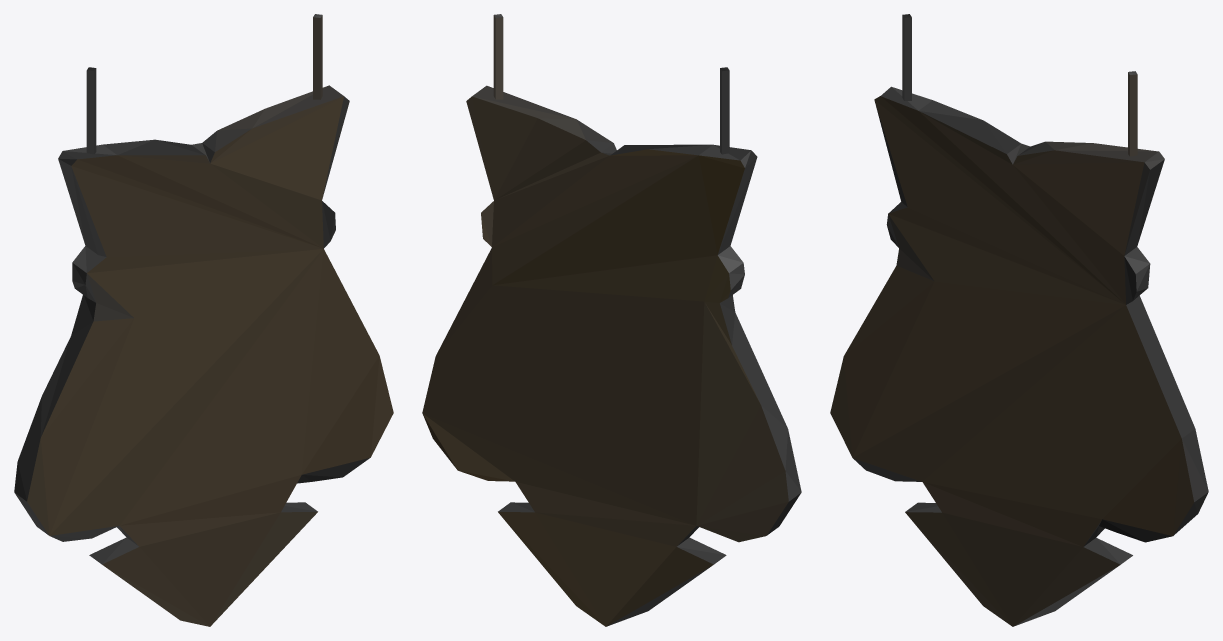
The model's file is Sign-HangingH.fbx.
3 views of the same model, side by side, from view 1: azimuth 30°, elevation 25°; view 2: azimuth 150°, elevation 25°; view 3: azimuth 330°, elevation 25° (orthographic).
Visible parts, largest first — view 1: Sign-HangingH; view 2: Sign-HangingH; view 3: Sign-HangingH.
Part boxes in pixels (box(x1,y1,x2,y2)): Sign-HangingH: box(14, 14, 393, 626); Sign-HangingH: box(422, 14, 801, 626); Sign-HangingH: box(830, 14, 1208, 626).
Size of the model in its own units: 114 by 173 by 8.15.
